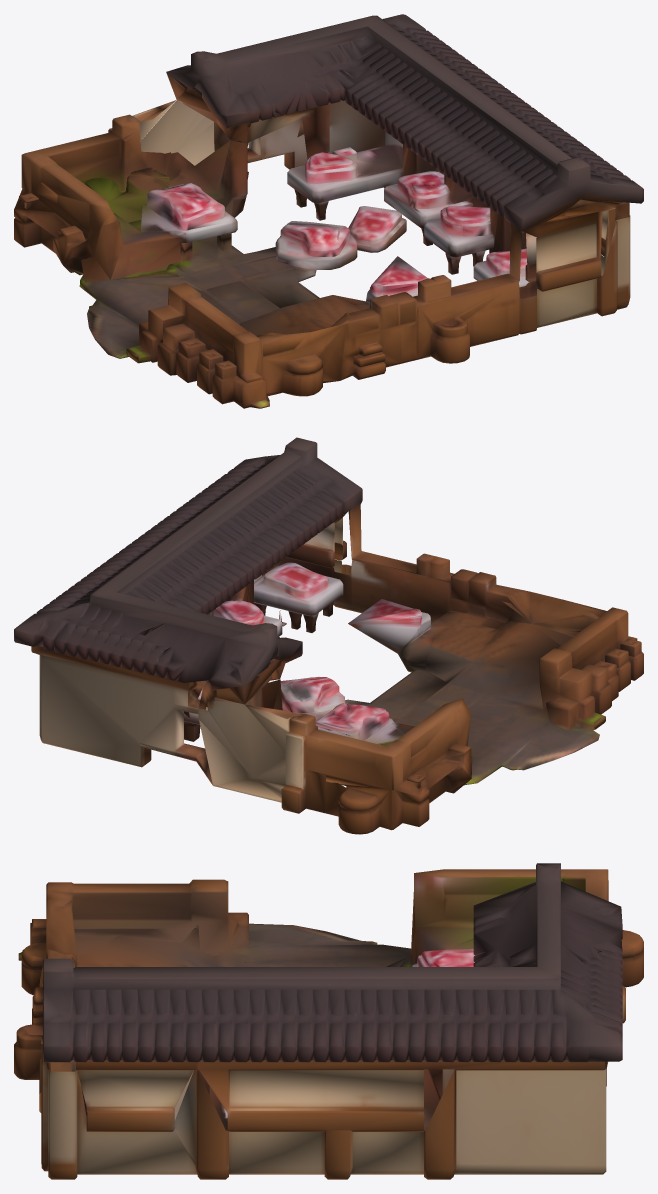
File: slaughterhouse.fbx
The picture shows the model from 3 angles, top to bottom: view 1: azimuth 30°, elevation 25°; view 2: azimuth 150°, elevation 25°; view 3: azimuth 270°, elevation 25°; orthographic projection. The views are drawn at different scales.
Visible parts, largest first — view 1: texture_pbr_v128; view 2: texture_pbr_v128; view 3: texture_pbr_v128.
Boxes of the visible parts, x1,y1,x2,y2 form: texture_pbr_v128: [14, 14, 643, 408]; texture_pbr_v128: [14, 437, 643, 834]; texture_pbr_v128: [14, 863, 643, 1179].
Size of the model in its own units: 189 by 62.82 by 190.
Materials: 1 (1 with a texture image).
